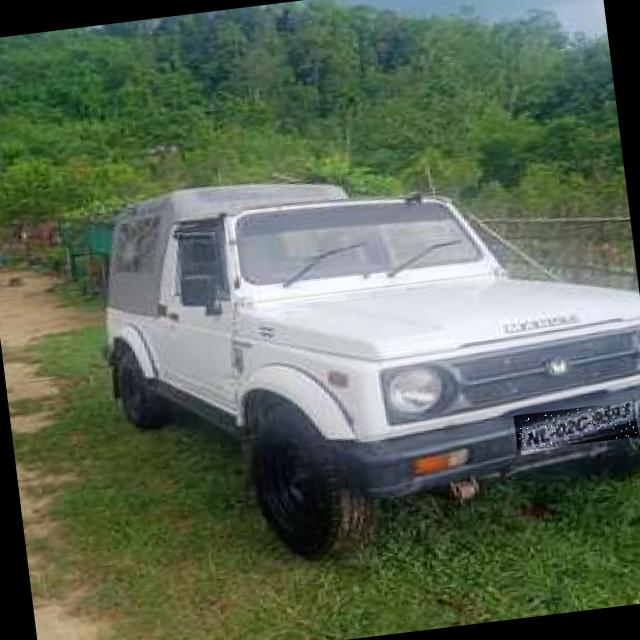Plate: (515, 401, 640, 452)
